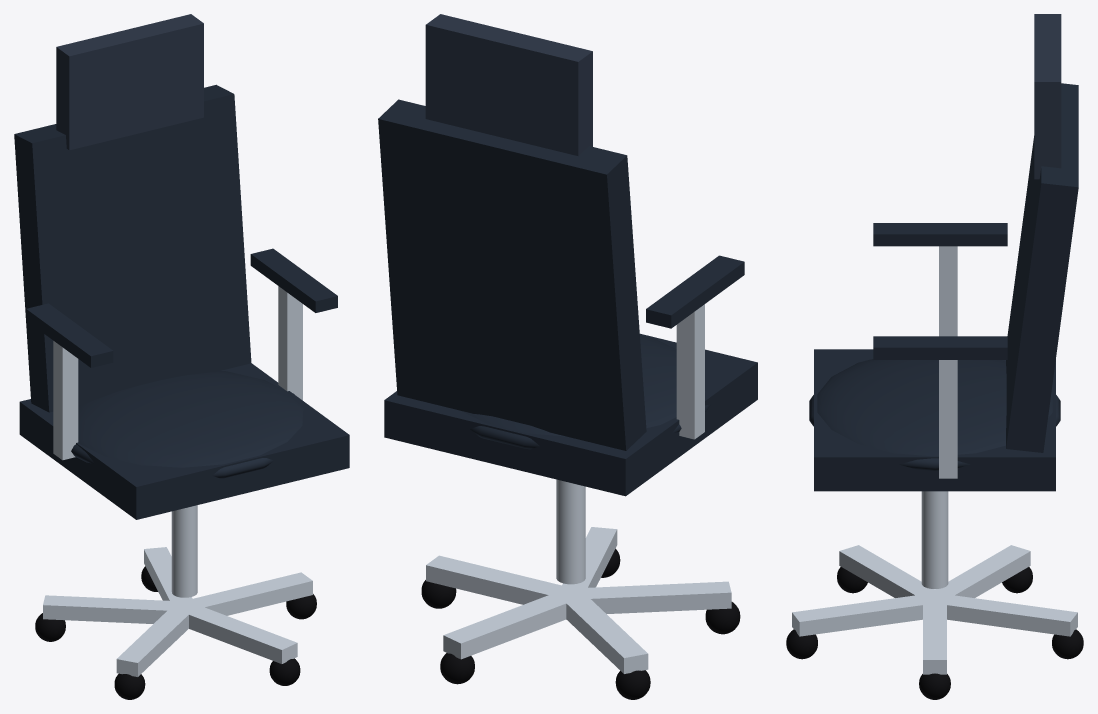
The model's file is chair.glb.
3 views of the same model, side by side, from view 1: azimuth 30°, elevation 25°; view 2: azimuth 150°, elevation 25°; view 3: azimuth 270°, elevation 25° (orthographic). The views are drawn at different scales.
Visible parts, largest first — view 1: chair; view 2: chair; view 3: chair.
Boxes of the visible parts, left/top/right/bottom form: chair: left=14, top=14, right=349, bottom=699; chair: left=378, top=14, right=757, bottom=699; chair: left=786, top=14, right=1083, bottom=699.
Bounding box in the file's own units: 1.13 × 2.43 × 1.11.
